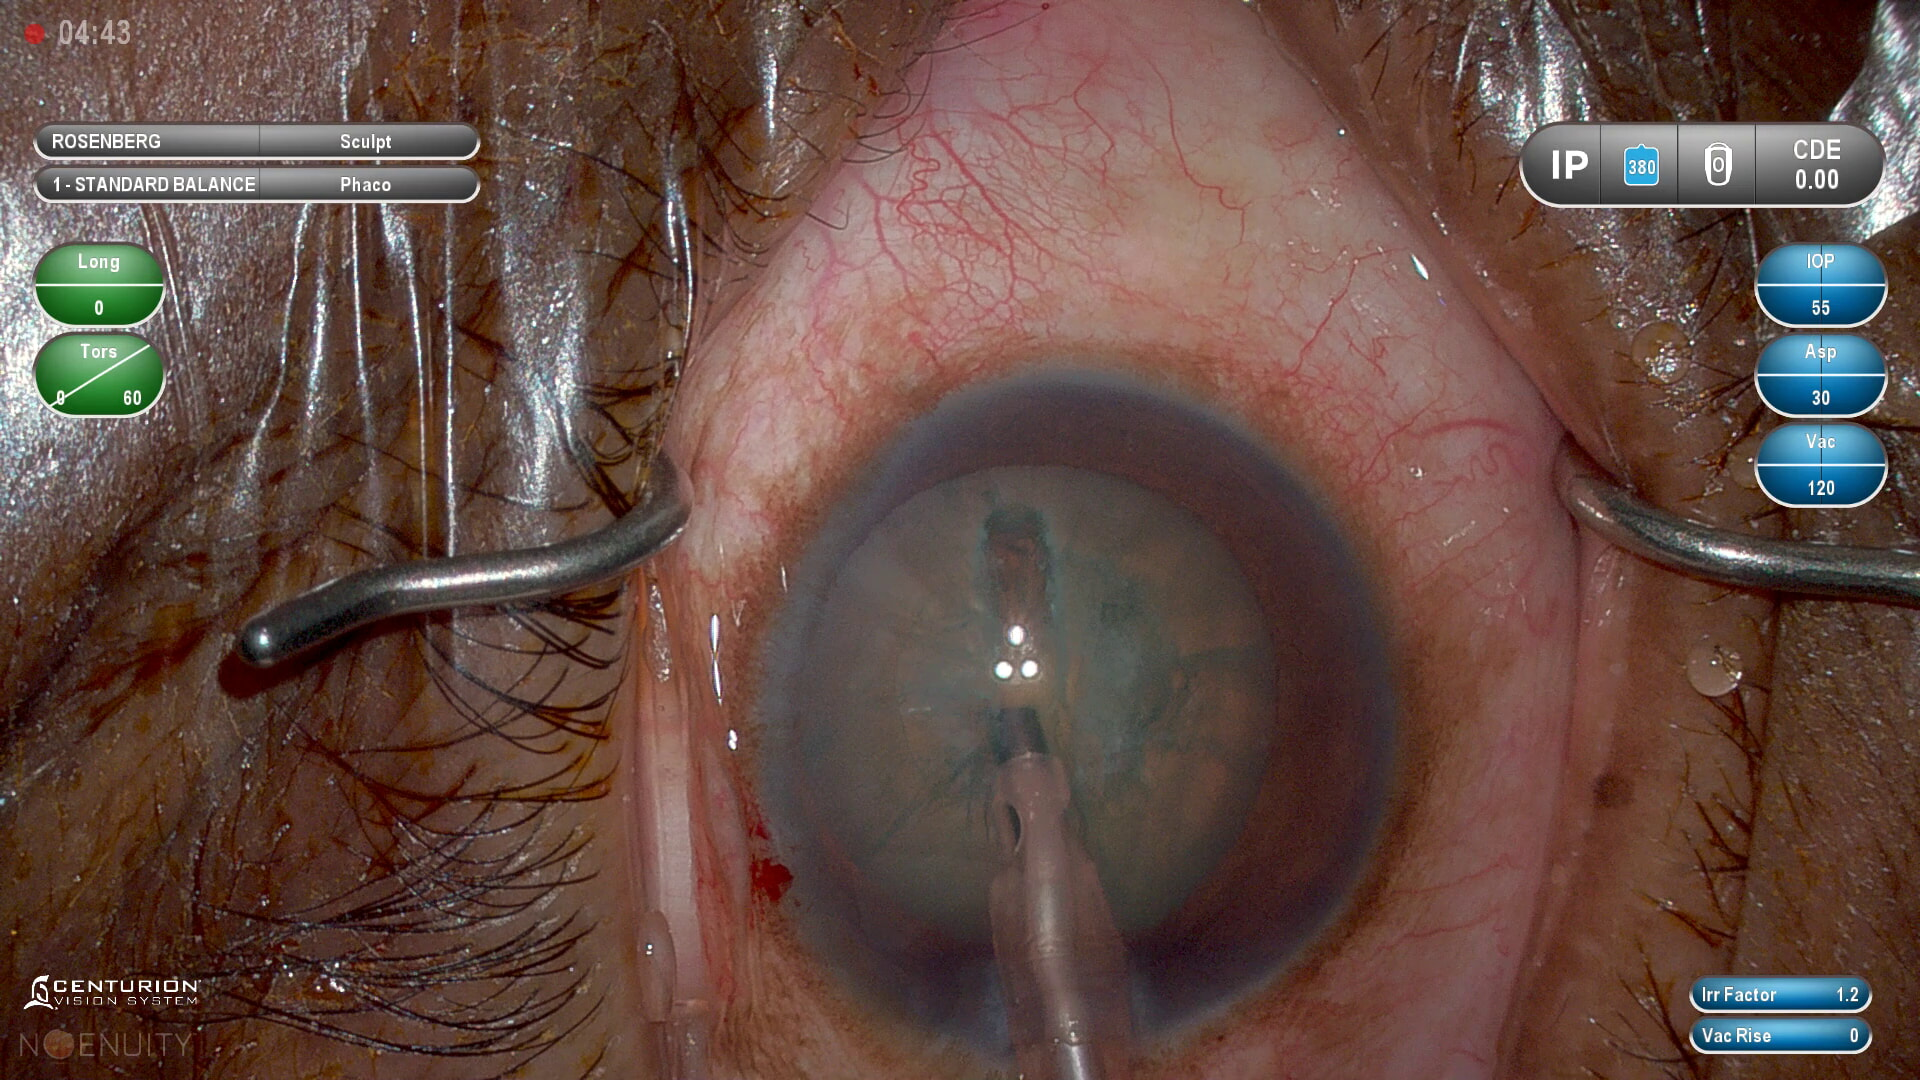iris: (777, 383, 1398, 1022)
pupil: (786, 470, 1274, 946)
